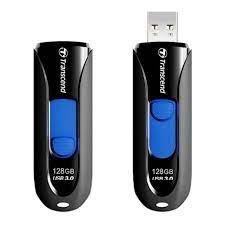Flash-drive: (30, 33, 100, 212), (135, 2, 195, 205)
